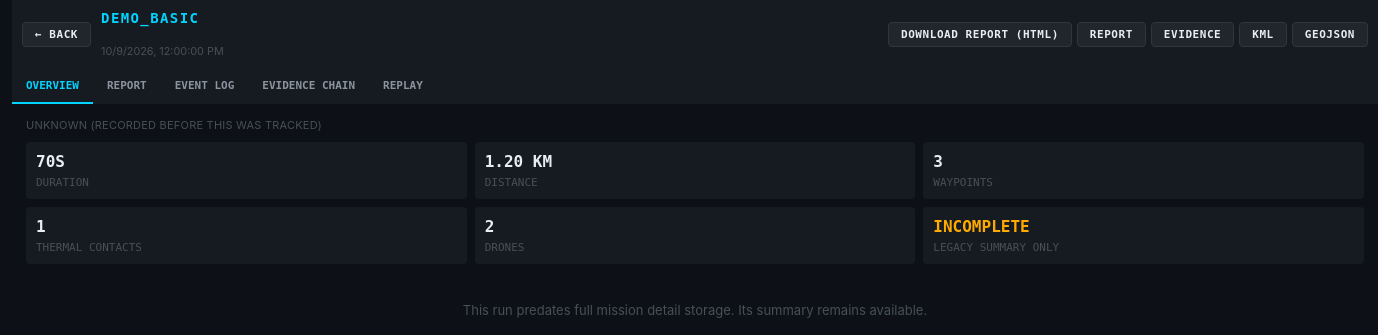
Test: signed-in history Report tab › says so when the run has no full detail
Click the button "Report".
click(127, 86)  # box [93,68,161,104]
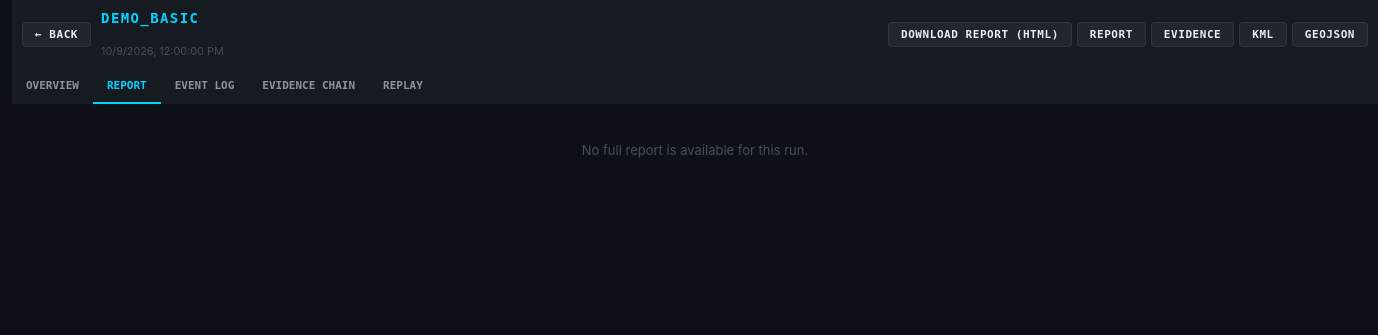
Expected: the text "No full report is available for this run." is shown, [582,142,808,158]
